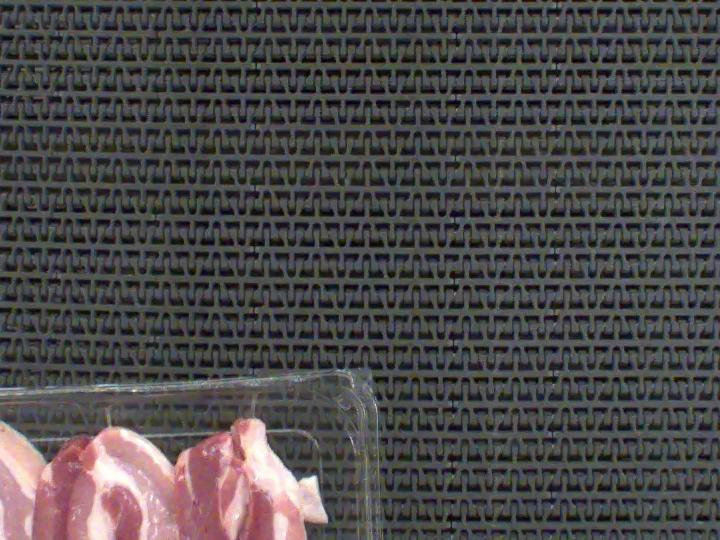packaging-error: (231, 388, 263, 424)
